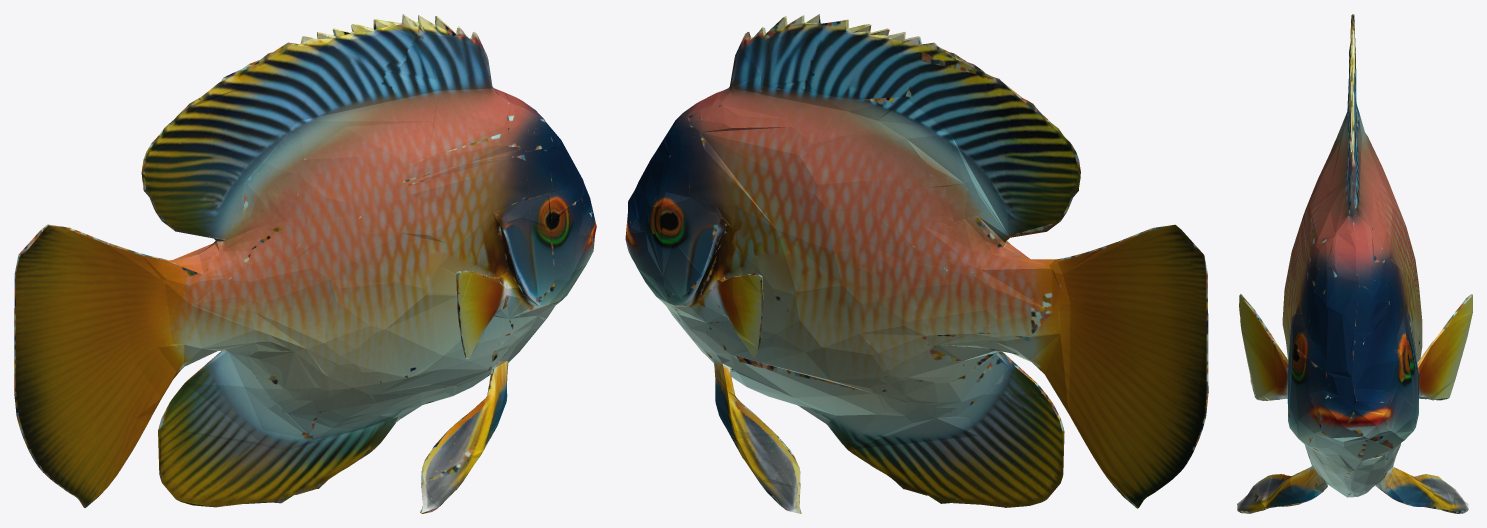
File: fish_0005_smpl23_resized.glb
3 renders of one model, left to right at view 1: azimuth 30°, elevation 25°; view 2: azimuth 150°, elevation 25°; view 3: azimuth 270°, elevation 25°, orthographic.
Visible parts, largest first — view 1: world; view 2: world; view 3: world.
Part boxes in pixels (left/top/right/bottom): world: left=14, top=14, right=596, bottom=513; world: left=625, top=14, right=1208, bottom=513; world: left=1237, top=14, right=1472, bottom=513.
Bounding box in the file's own units: 1.99 × 1.52 × 0.7096.
Materials: 1 (1 with a texture image).
